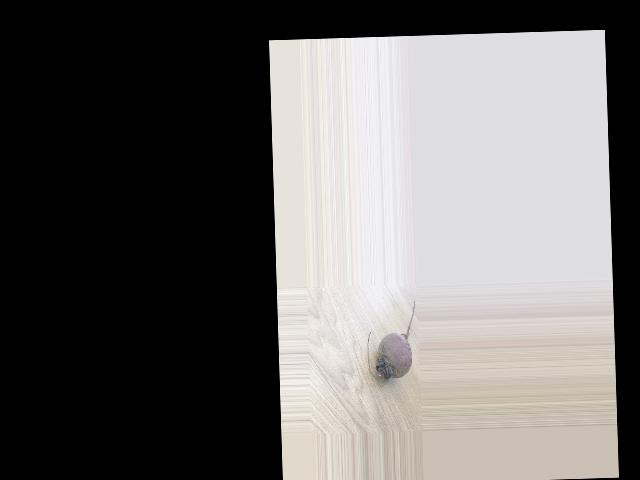beet: (366, 300, 417, 381)
